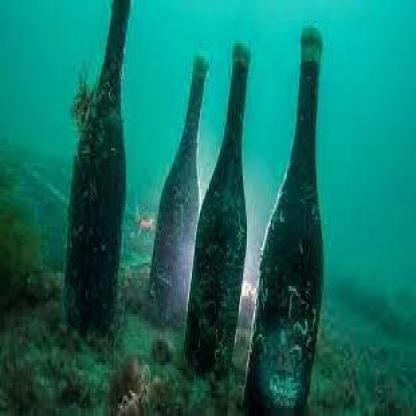gbottle: (247, 30, 326, 416), (185, 48, 254, 376), (69, 2, 132, 340), (152, 53, 210, 326)
